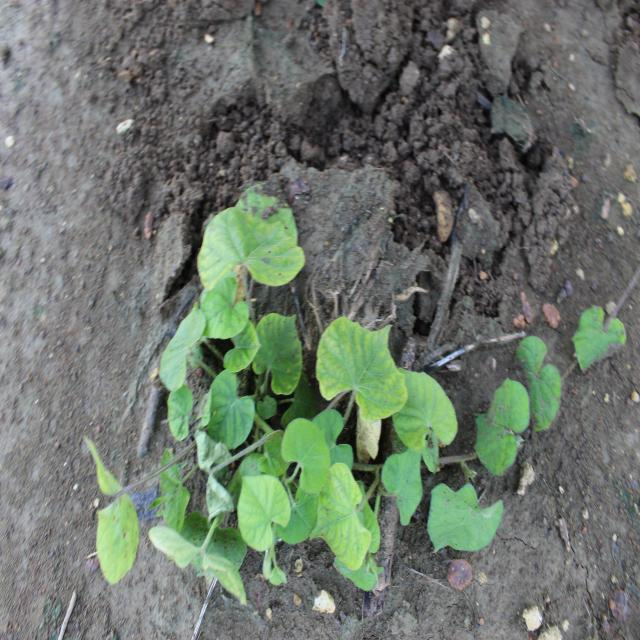MorningGlory: (82, 180, 630, 585)
